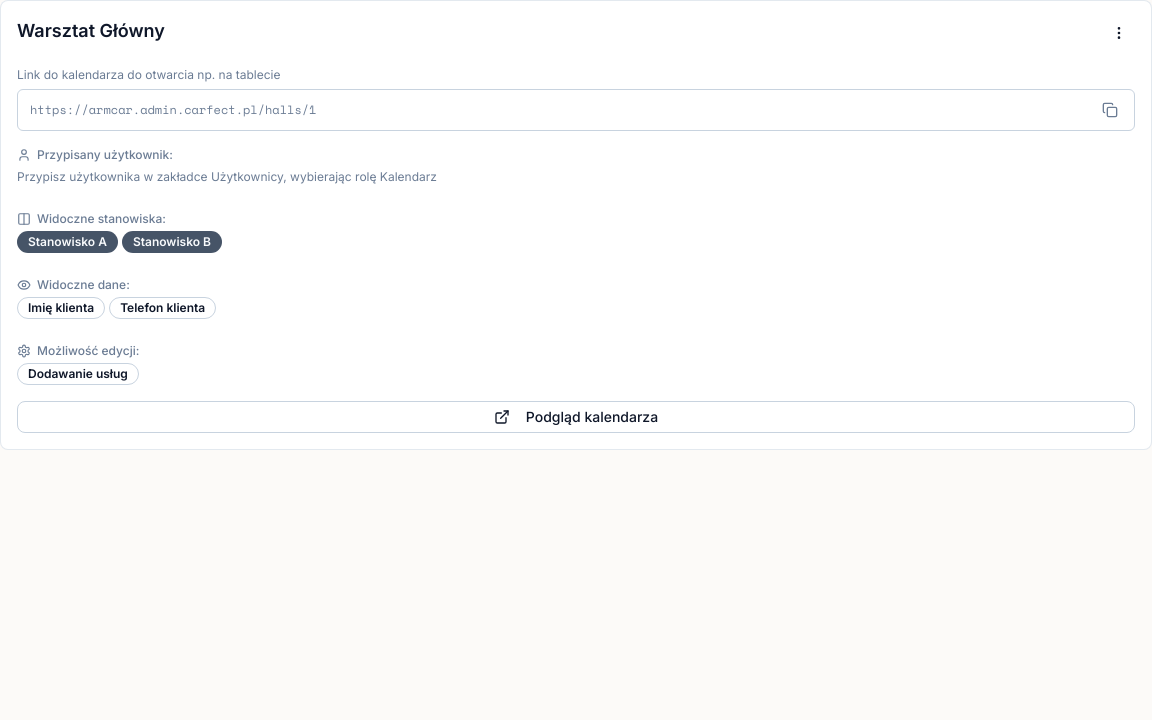
HallCard › edit and delete callbacks › opens delete confirmation dialog when delete menu item is clicked
Click the button without text in the row of "Warsztat Główny".
click(1119, 33)  # box x1=1103 y1=17 x2=1135 y2=49
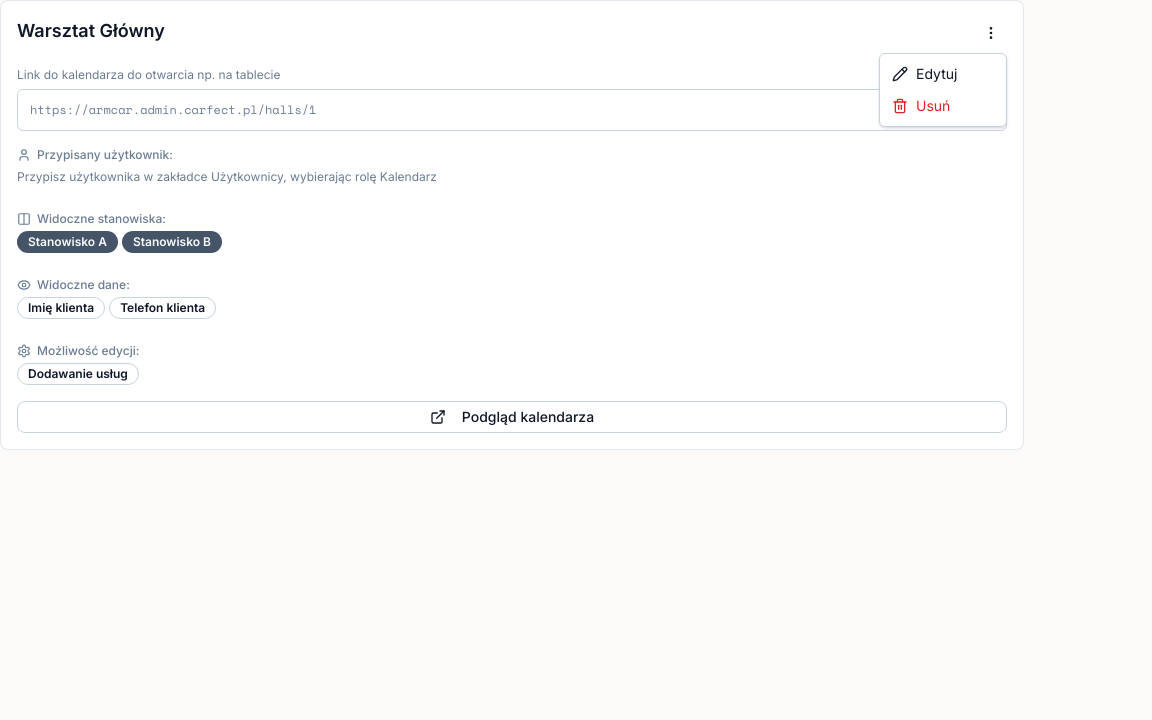
Now the menu item "Usuń" is shown
Click the menu item "Usuń".
click(943, 106)  # box x1=884 y1=90 x2=1002 y2=122
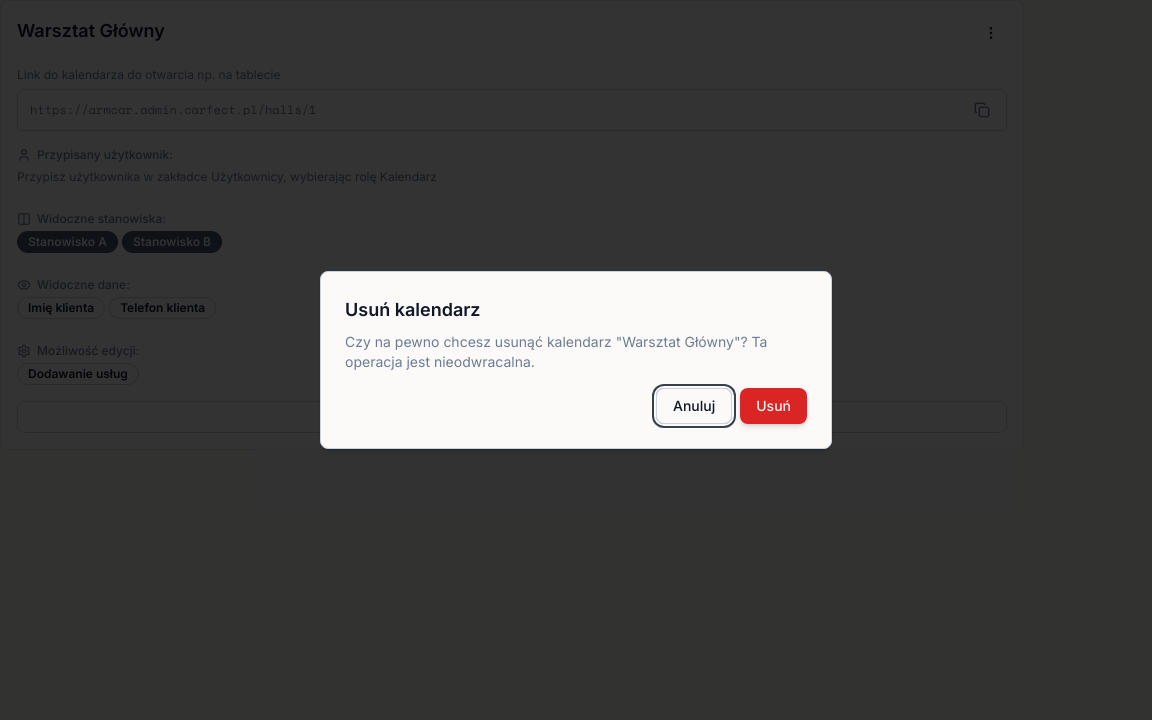
Now the heading "Usuń kalendarz" is shown, box x1=345 y1=299 x2=481 y2=320
